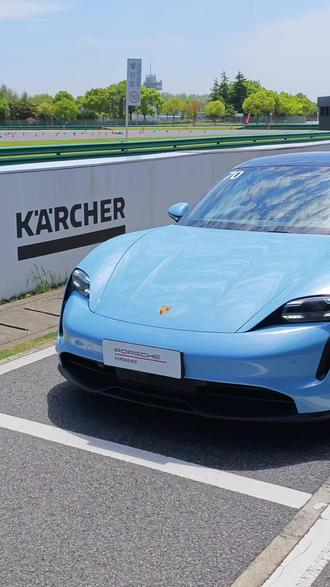other: (58, 146, 330, 435)
